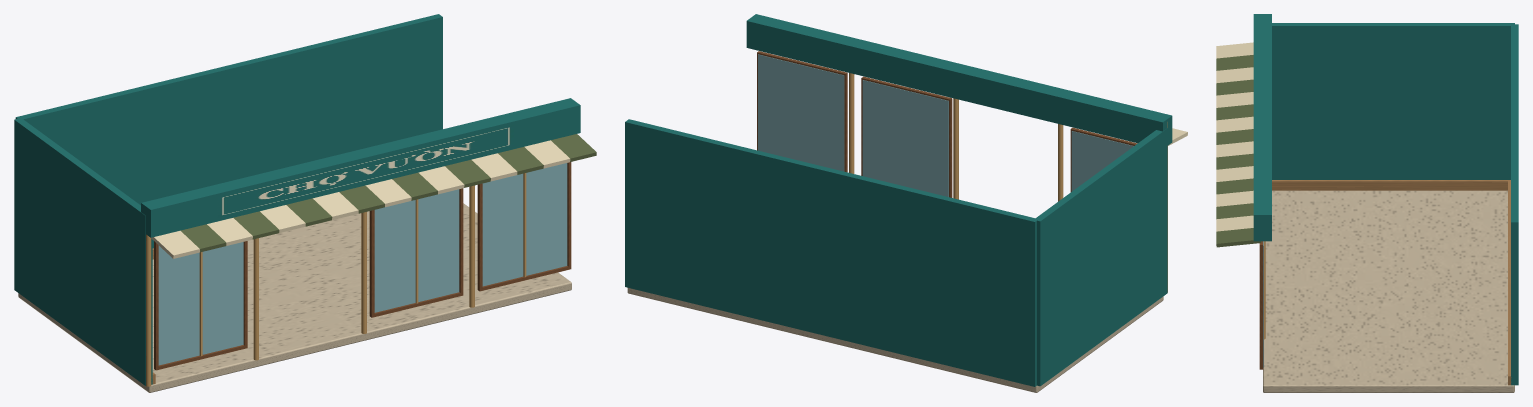
File: market-front-7837980edd68.glb
The picture shows the model from 3 angles, left to right: view 1: azimuth 30°, elevation 25°; view 2: azimuth 150°, elevation 25°; view 3: azimuth 270°, elevation 25°; orthographic projection. The views are drawn at different scales.
Visible parts, largest first — view 1: surface_teal, surface_glass, surface_terrazzo, surface_sign_CHỢ VƯỜNteal#f8edcf, surface_ivory, surface_olive, surface_walnut, surface_brass; view 2: surface_teal, surface_glass, surface_terrazzo, surface_walnut, surface_brass; view 3: surface_terrazzo, surface_teal, surface_olive, surface_ivory, surface_oak, surface_walnut.
Boxes of the visible parts, left/top/right/bottom form: surface_teal: left=14, top=14, right=580, bottom=385; surface_glass: left=158, top=163, right=567, bottom=365; surface_terrazzo: left=18, top=203, right=571, bottom=392; surface_sign_CHỢ VƯỜNteal#f8edcf: left=217, top=125, right=513, bottom=217; surface_ivory: left=151, top=140, right=570, bottom=258; surface_olive: left=181, top=134, right=596, bottom=252; surface_walnut: left=154, top=162, right=571, bottom=370; surface_brass: left=146, top=173, right=526, bottom=386; surface_teal: left=625, top=14, right=1172, bottom=386; surface_glass: left=758, top=54, right=1133, bottom=196; surface_terrazzo: left=627, top=288, right=1163, bottom=392; surface_walnut: left=757, top=51, right=1137, bottom=197; surface_brass: left=849, top=73, right=1167, bottom=292; surface_terrazzo: left=1263, top=190, right=1514, bottom=392; surface_teal: left=1253, top=14, right=1518, bottom=385; surface_olive: left=1216, top=55, right=1261, bottom=247; surface_ivory: left=1216, top=42, right=1253, bottom=231; surface_oak: left=1272, top=180, right=1511, bottom=385; surface_walnut: left=1259, top=241, right=1263, bottom=369.
Bounding box in the file's own units: 7.92 × 3.31 × 5.04.
Materials: 9 (4 with a texture image).
